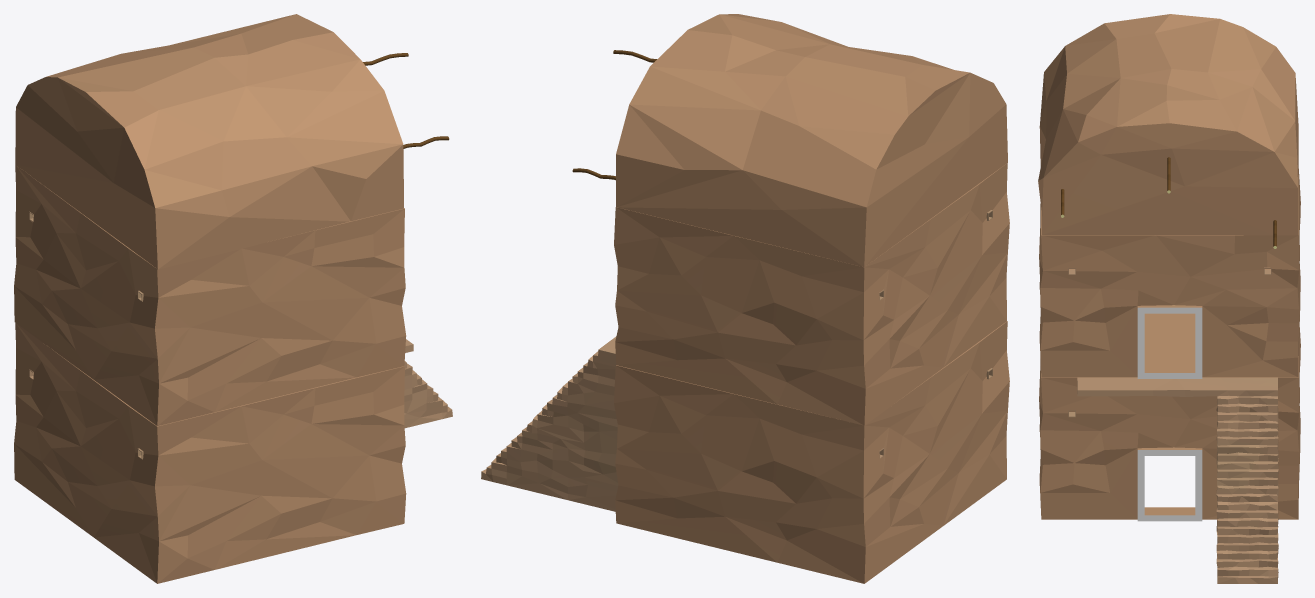
The model's file is Tunusia_V1_colored.fbx.
3 views of the same model, side by side, from view 1: azimuth 30°, elevation 25°; view 2: azimuth 150°, elevation 25°; view 3: azimuth 270°, elevation 25° (orthographic). The views are drawn at different scales.
Visible parts, largest first — view 1: Tunisia 1; view 2: Tunisia 1; view 3: Tunisia 1.
Boxes of the visible parts, bbox=[...] form: Tunisia 1: bbox=[14, 14, 452, 583]; Tunisia 1: bbox=[481, 14, 1009, 583]; Tunisia 1: bbox=[1038, 14, 1300, 583].
Size of the model in its own units: 1566 by 1675 by 996.
Materials: 1 (1 with a texture image).
